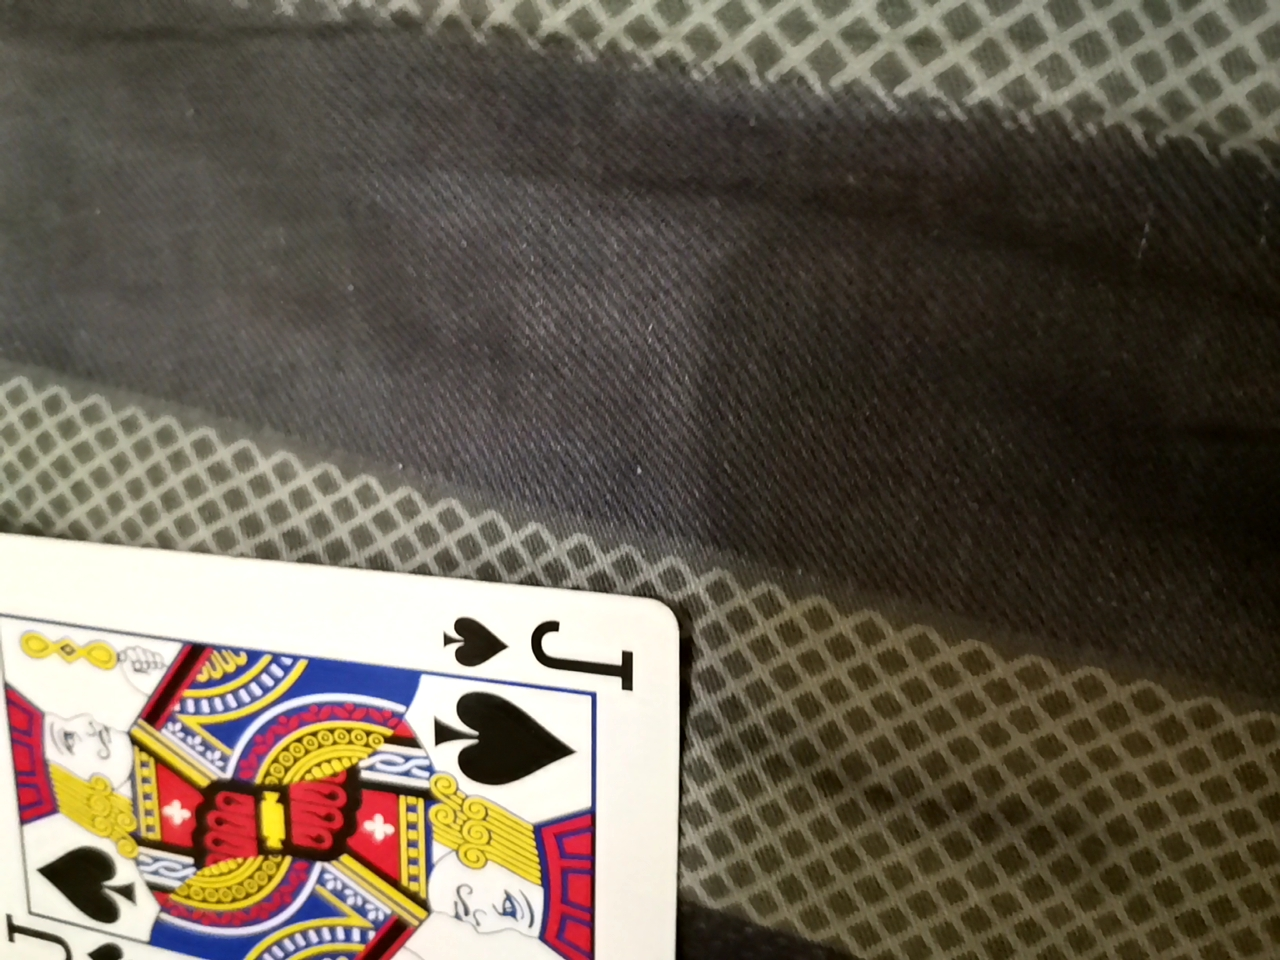ht j: (9, 511, 682, 954)
